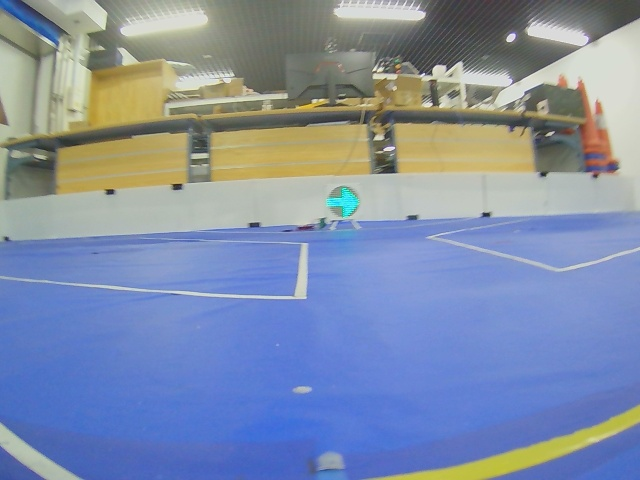right_green: (326, 186, 360, 219)
